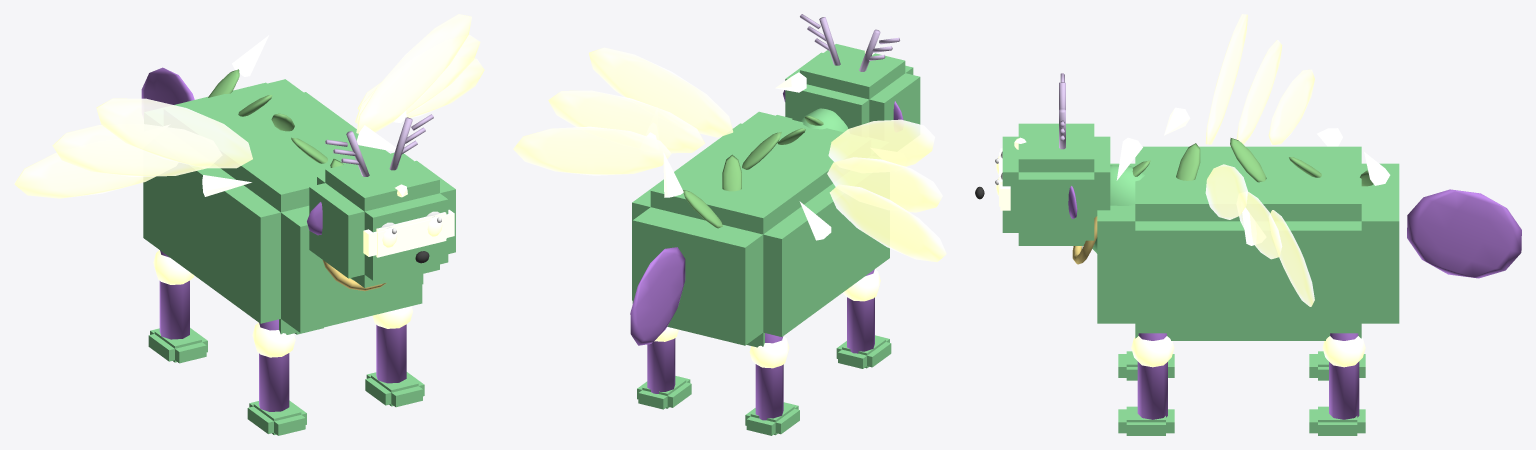
The model's file is alien_automaton_09.glb.
3 views of the same model, side by side, from view 1: azimuth 30°, elevation 25°; view 2: azimuth 150°, elevation 25°; view 3: azimuth 270°, elevation 25° (orthographic). The views are drawn at different scales.
Visible parts, largest first — view 1: box; view 2: box; view 3: box.
Boxes of the visible parts, x1,y1,x2,y2 form: box: [14, 14, 484, 435]; box: [513, 14, 946, 435]; box: [975, 14, 1521, 435].
Bounding box in the file's own units: 2.42 × 1.56 × 2.52.
